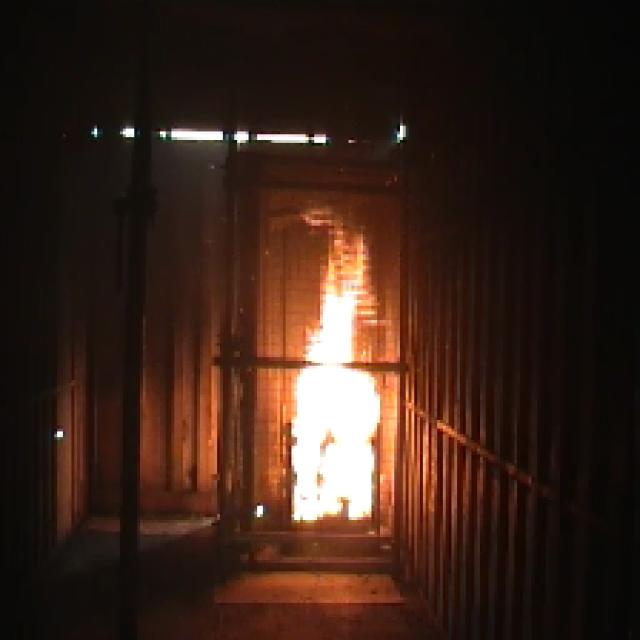smoke: (291, 228, 381, 534)
